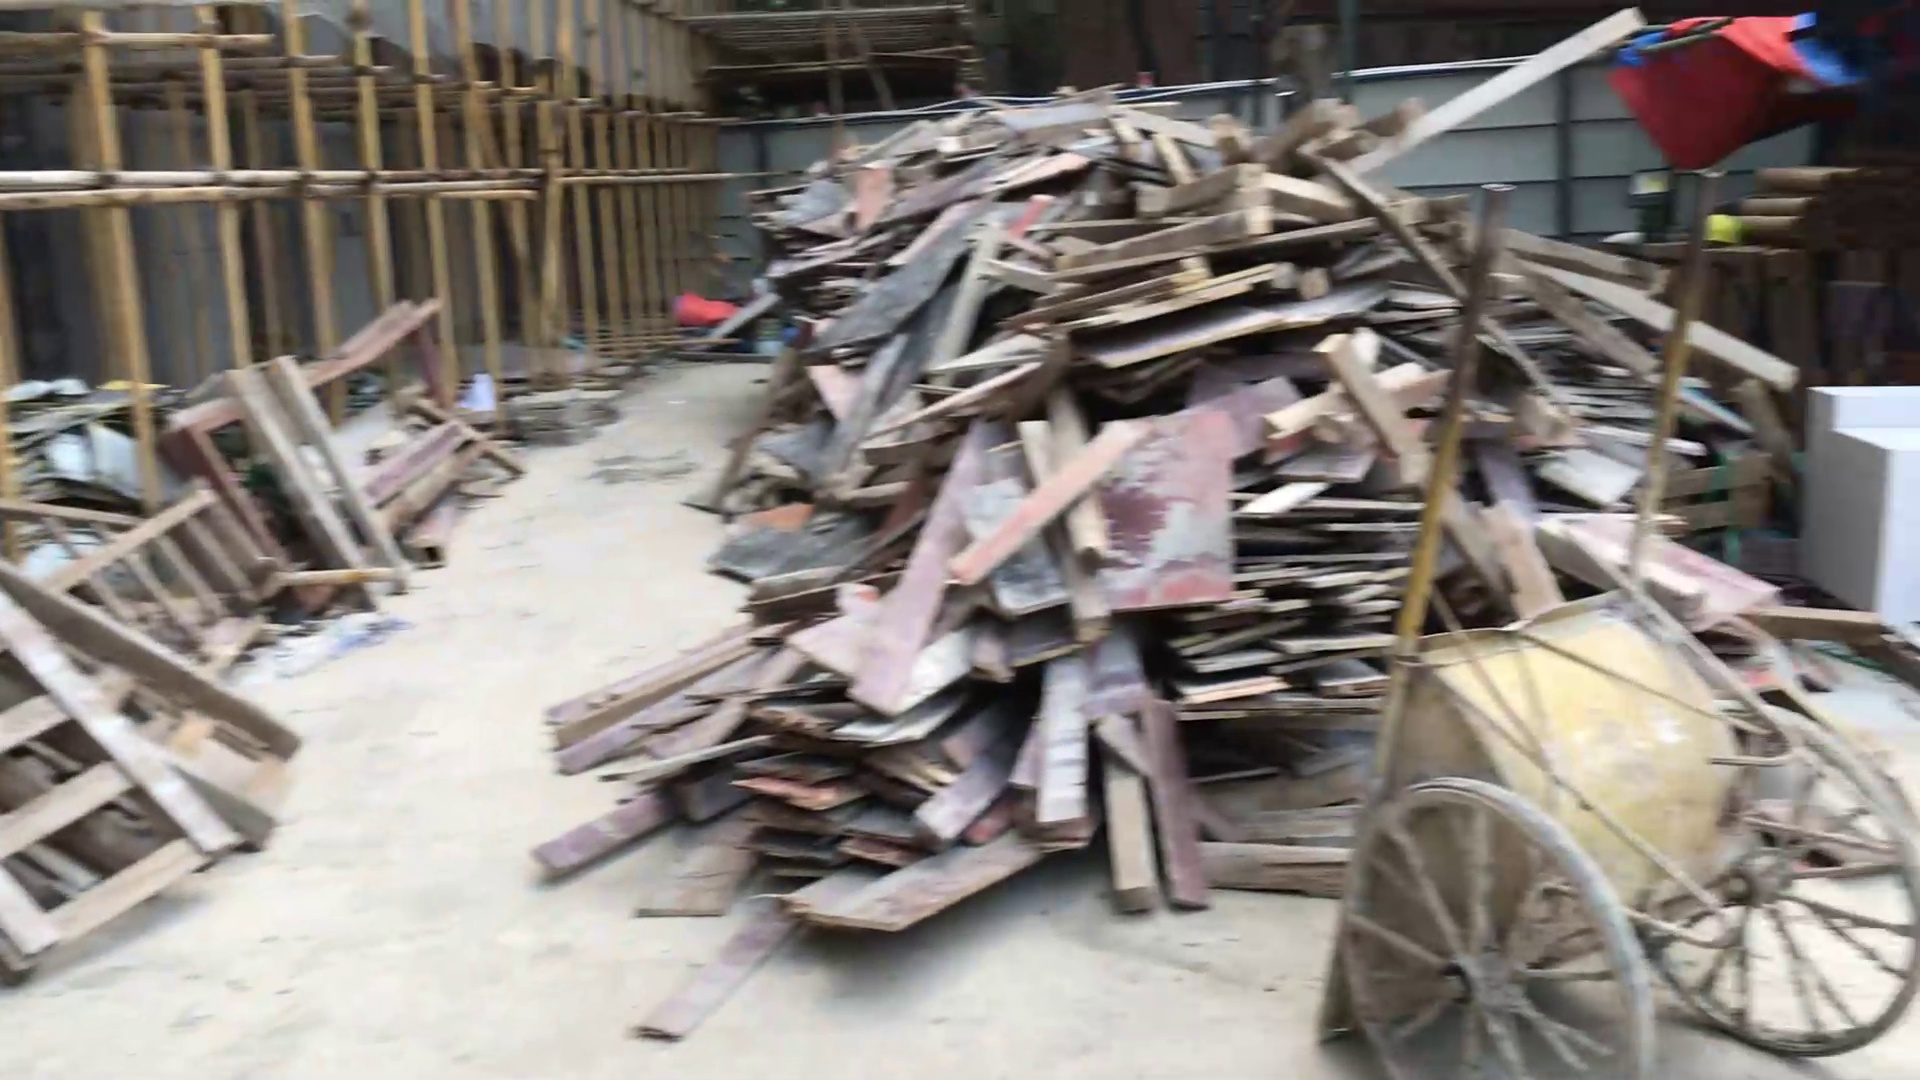brick: (1791, 357, 1920, 632)
handcart: (1261, 132, 1920, 1075)
